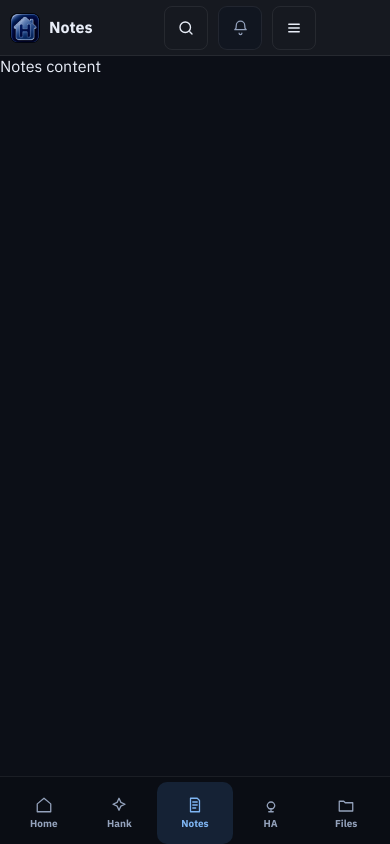
it: Shell › partitions daily mobile routes from the overflow menu
Expected: the number of links is 5, [30,796,58,830]; [107,796,132,830]; [157,782,233,843]; [262,796,280,830]; [335,796,357,830]
Click the button named "Open menu".
click(294, 28)  # box [272,6,316,50]
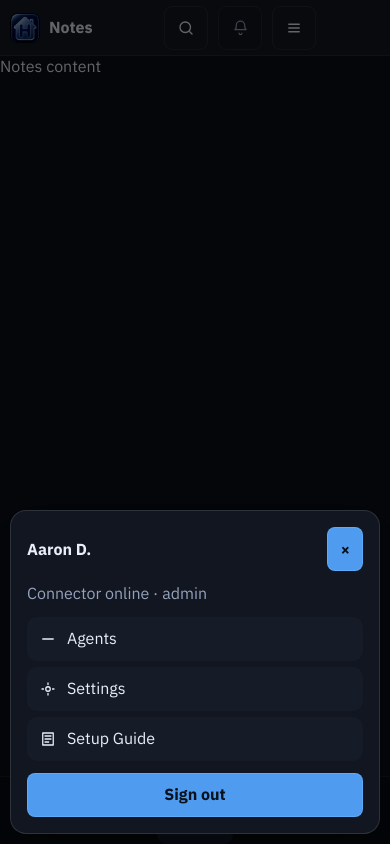
Result: the link "Agents" is shown at [27,617,363,661]
Result: the link "Settings" is shown at [27,667,363,711]
Result: the link "Setup Guide" is shown at [27,717,363,761]
